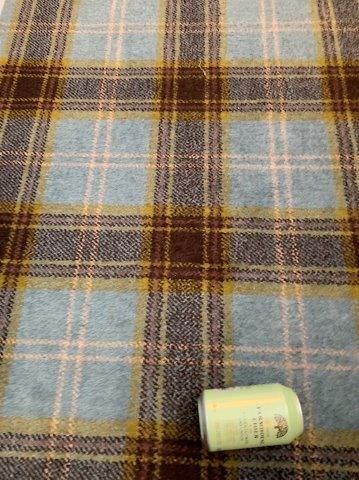kaleng: (199, 384, 302, 451)
